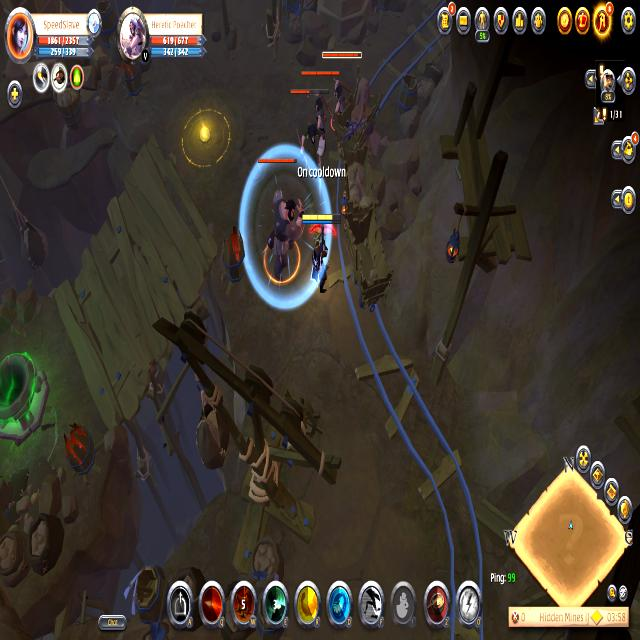ore: (258, 150, 304, 289), (290, 74, 335, 167), (320, 48, 366, 136), (298, 65, 340, 139)
red: (302, 212, 337, 292)
